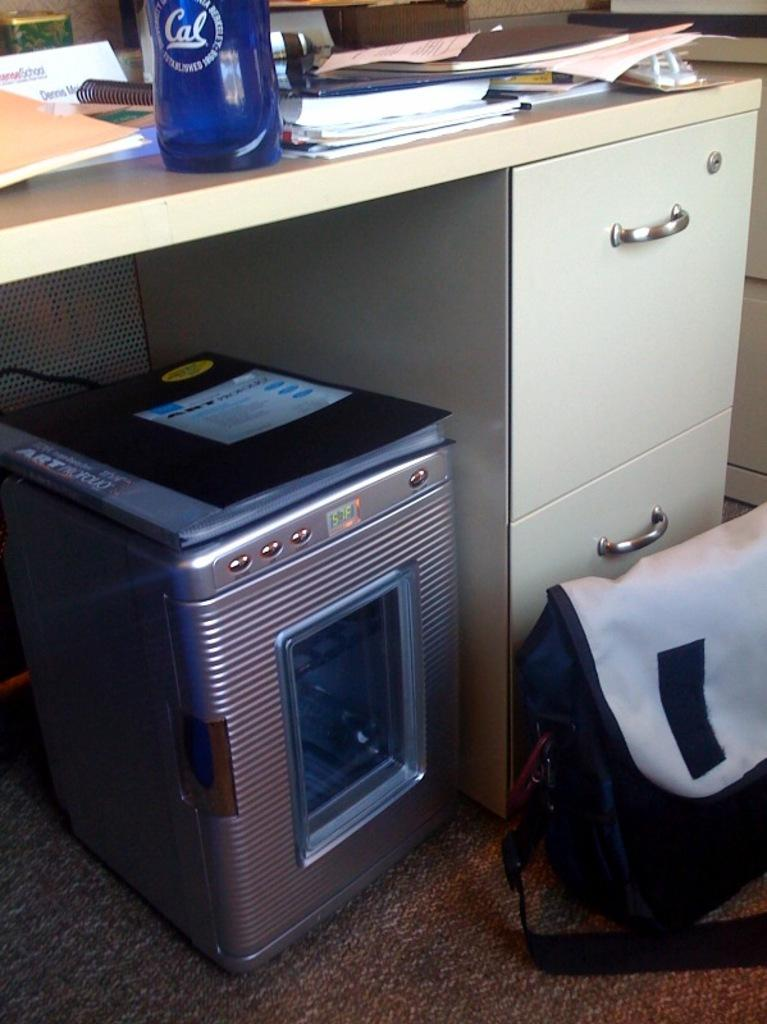Luggage-and-bags: (490, 535, 766, 966)
